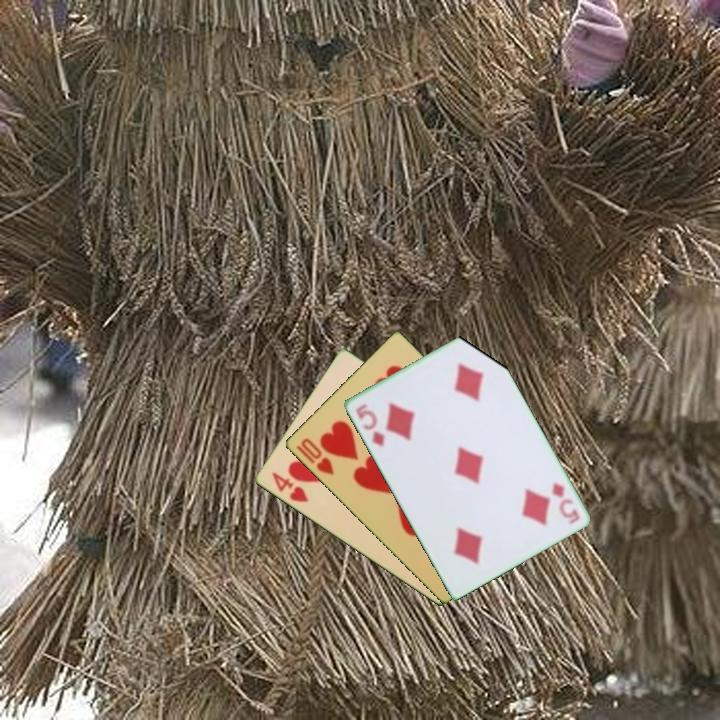10h: (297, 435, 336, 478)
4h: (268, 468, 311, 505)
5d: (352, 400, 388, 450), (548, 478, 582, 527)
